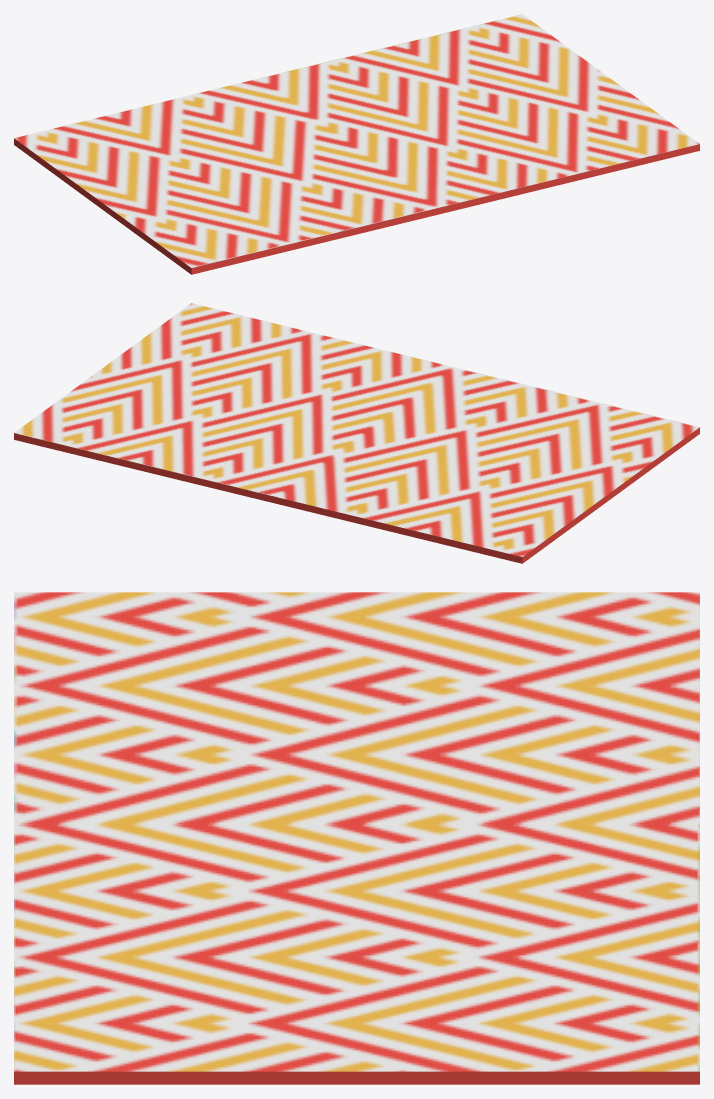
3 renders of one model, top to bottom at view 1: azimuth 30°, elevation 25°; view 2: azimuth 150°, elevation 25°; view 3: azimuth 270°, elevation 25°, orthographic. The views are drawn at different scales.
Parts seen in each view (by area): view 1: Mat_B; view 2: Mat_B; view 3: Mat_B.
Part boxes in pixels (left/top/right/bottom): Mat_B: left=14, top=14, right=699, bottom=274; Mat_B: left=14, top=303, right=699, bottom=563; Mat_B: left=14, top=592, right=699, bottom=1084.
Bounding box in the file's own units: 268 × 3.38 × 162.
